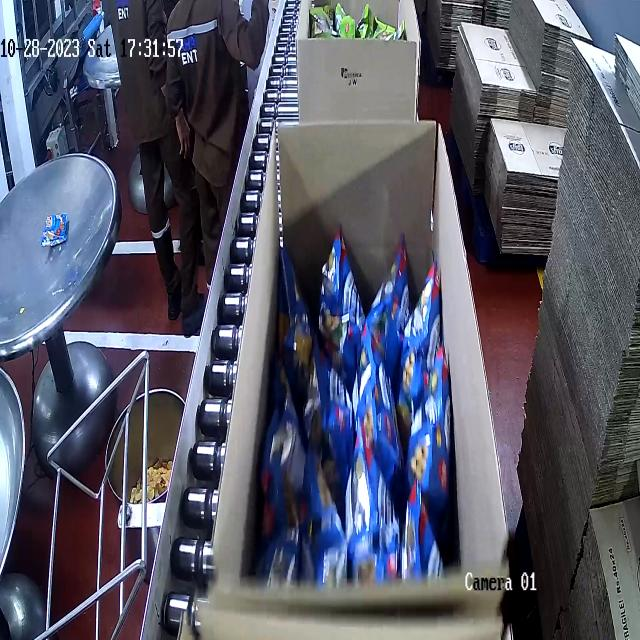PAPRIKA: (265, 232, 455, 586)
